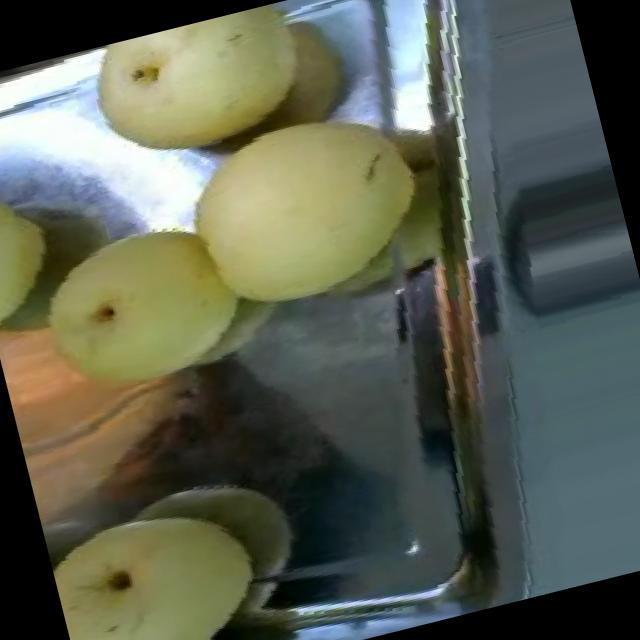Fruit: (150, 71, 454, 347), (0, 186, 284, 477), (66, 0, 339, 191), (38, 454, 315, 640), (0, 153, 84, 349)
